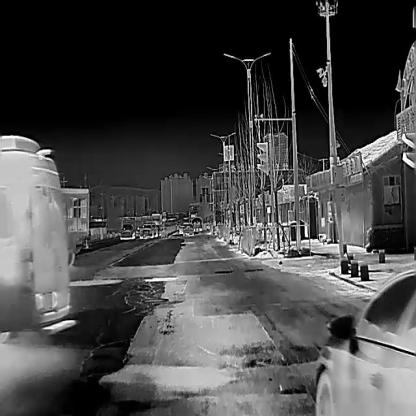car: (0, 134, 75, 341), (313, 267, 415, 415), (140, 224, 152, 238), (149, 222, 157, 236), (184, 226, 192, 235), (178, 226, 185, 233)
truck: (57, 184, 87, 267), (120, 216, 148, 239), (150, 213, 161, 235)
